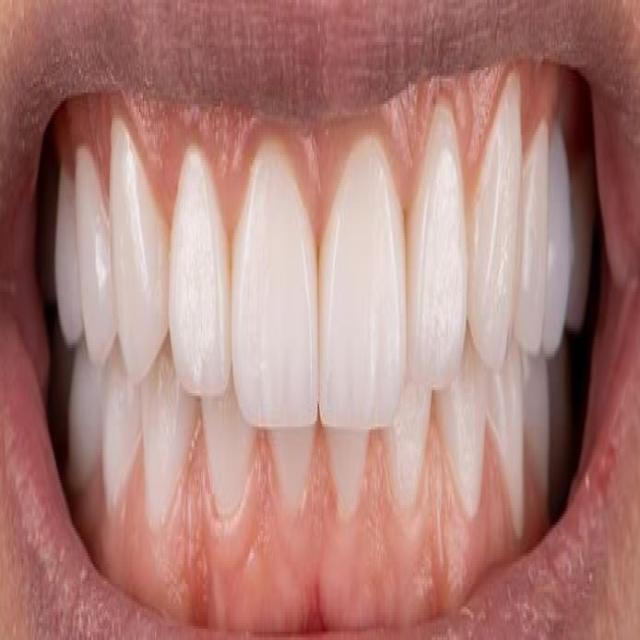1st Molar: (567, 166, 597, 332), (47, 326, 74, 441), (553, 353, 573, 488), (40, 177, 59, 298)
1st Premolar: (75, 149, 117, 363), (512, 124, 549, 356), (489, 349, 528, 542), (101, 344, 141, 508)
2nd Premolar: (541, 129, 569, 356), (67, 348, 101, 494), (56, 177, 84, 344), (528, 359, 553, 500)
Canine: (468, 73, 524, 371), (111, 121, 171, 382), (140, 342, 200, 525), (437, 342, 491, 522)
Central Incisor: (231, 133, 320, 426), (319, 135, 407, 427), (265, 421, 315, 519), (325, 429, 369, 528)
Lateral Incisor: (403, 104, 468, 393), (169, 146, 232, 396), (203, 393, 256, 522), (388, 393, 430, 515)
